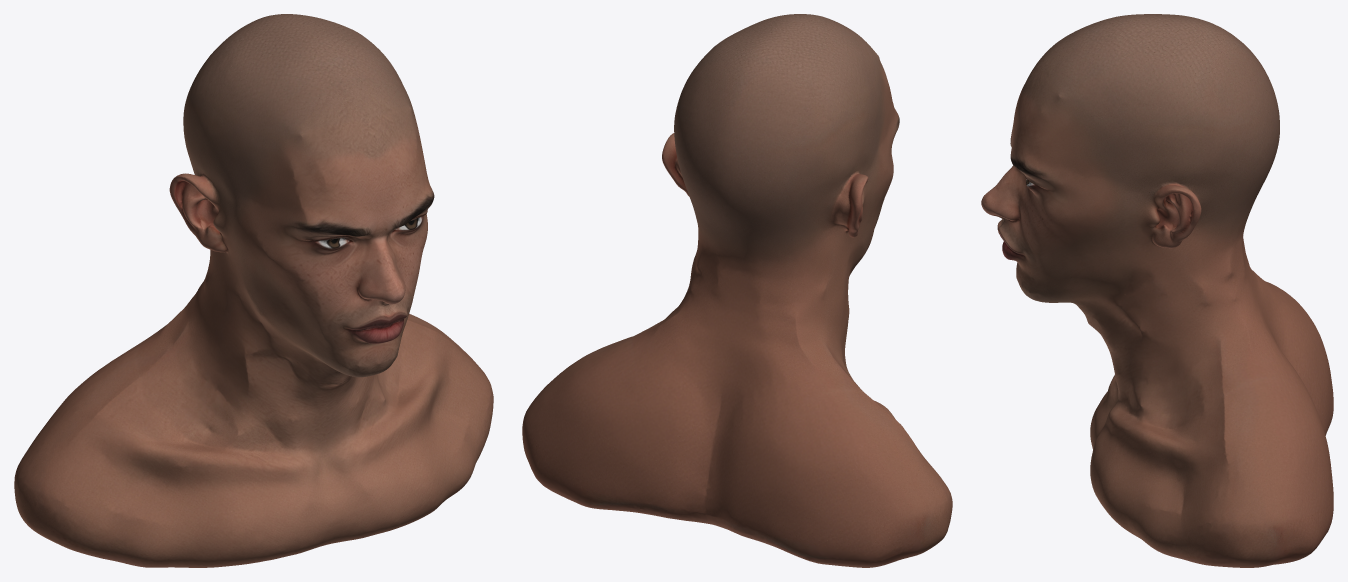
Rendered from rosto_2.glb.
The picture shows the model from 3 angles, left to right: view 1: azimuth 30°, elevation 25°; view 2: azimuth 150°, elevation 25°; view 3: azimuth 270°, elevation 25°; orthographic projection. The views are drawn at different scales.
Size of the model in its own units: 1.79 by 1.9 by 1.29.
1 material, 1 textured.
